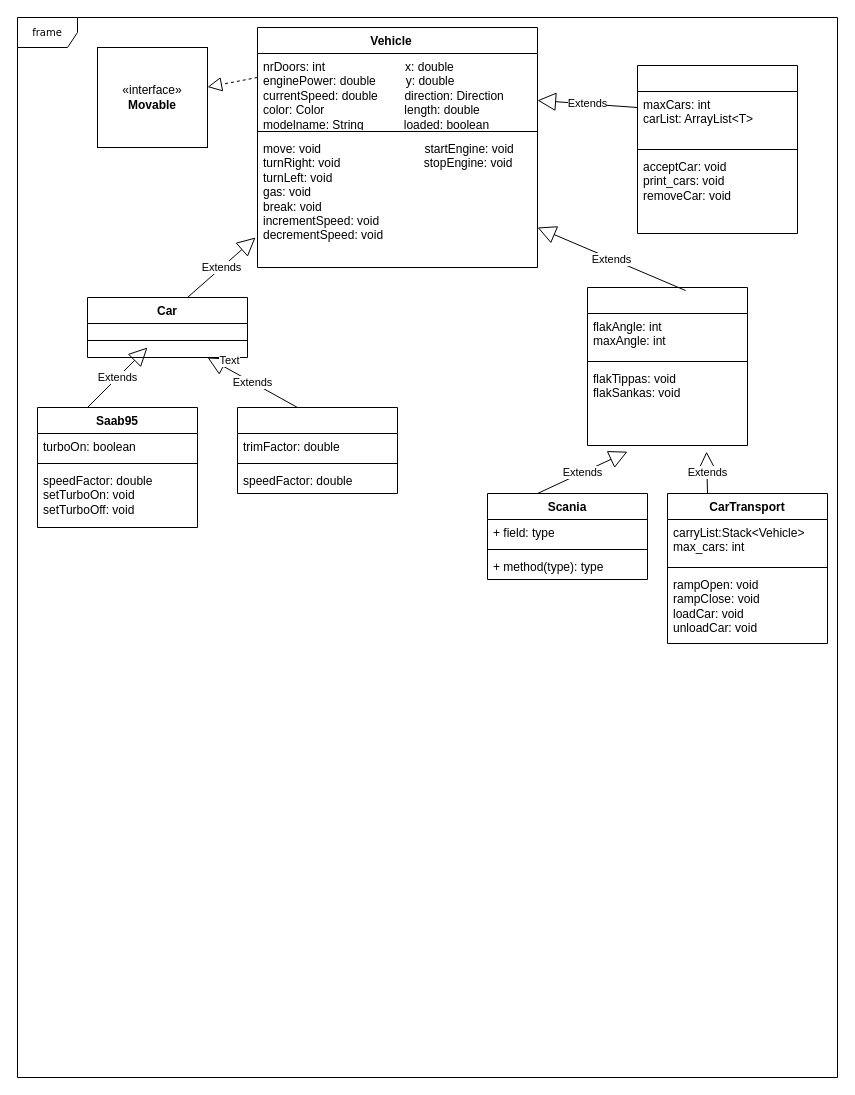
This 855x1095 diagram has some shape labels left out. Here are the shapes that lost their labels. From the top down, the box of each, then its label:
(636, 64, 798, 234): Workshop
(586, 286, 748, 446): Truck
(236, 406, 398, 494): Volvo240
